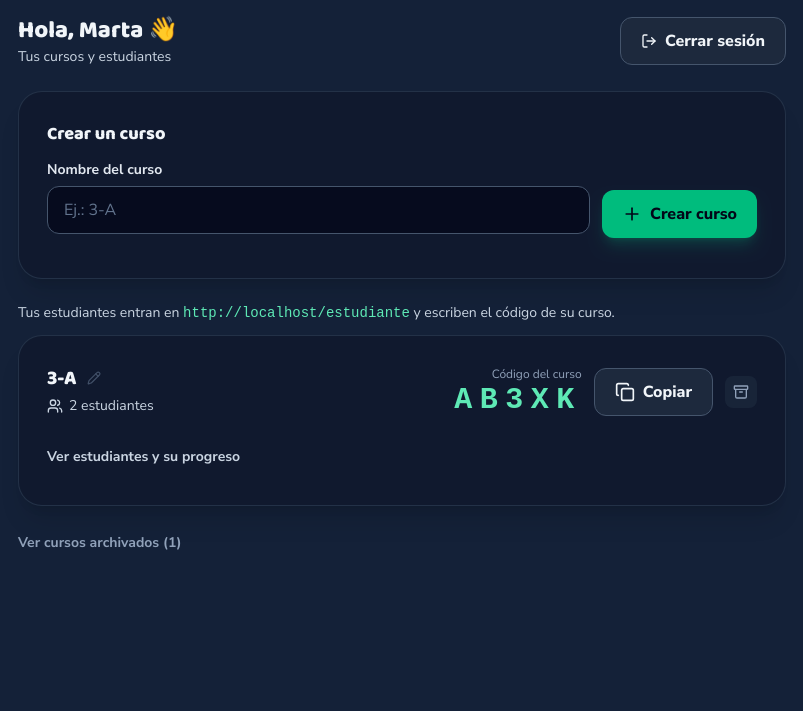
Test: TeacherPanel · cursos archivados › la confirmación de borrado muestra el XP real de los estudiantes (no 0)
Expected: the text "Tus cursos y estudiantes" is shown, [18,47,178,67]
Click the button "Ver cursos archivados (1)": point(100, 543) [18,533,181,553]
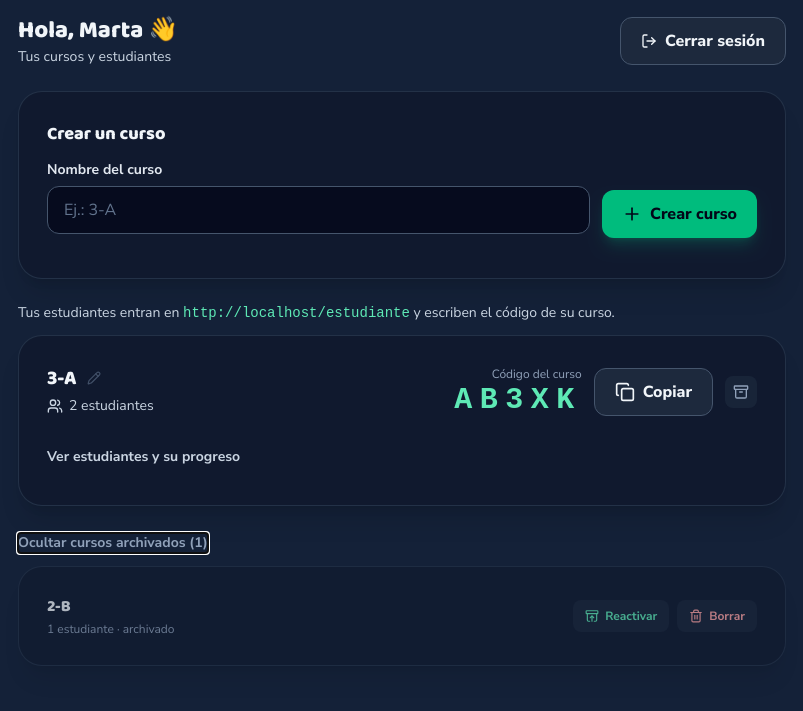
Click the button with aria-label "Borrar 2-B para siempre": point(717, 616) [677,600,757,632]
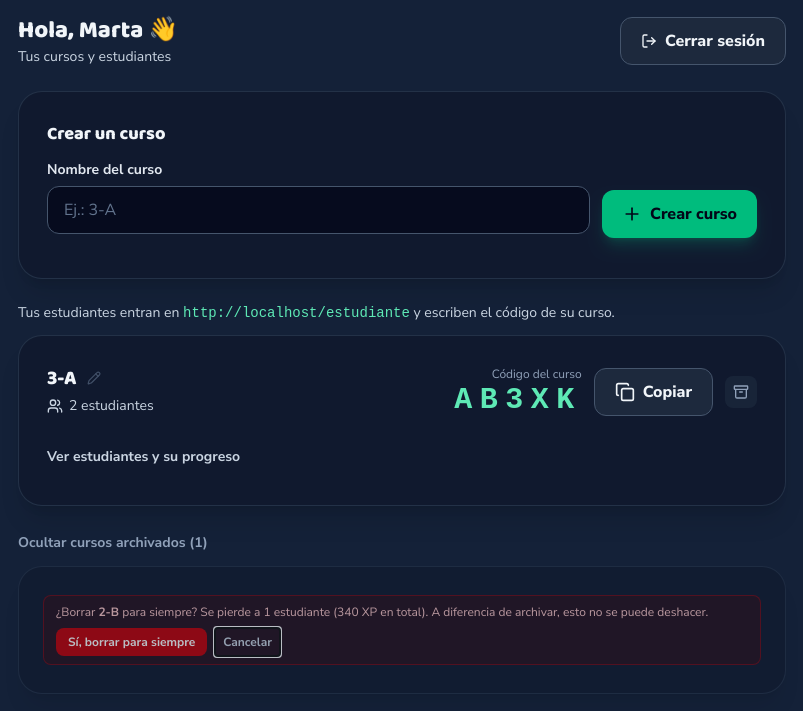
Expected: the text "340 XP en total" is shown, [251,604,426,620]
